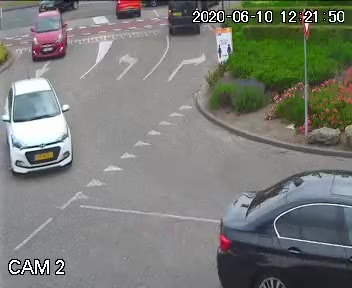car: (214, 160, 352, 284), (1, 75, 79, 179), (28, 7, 72, 60), (165, 1, 204, 36), (112, 0, 140, 21)
